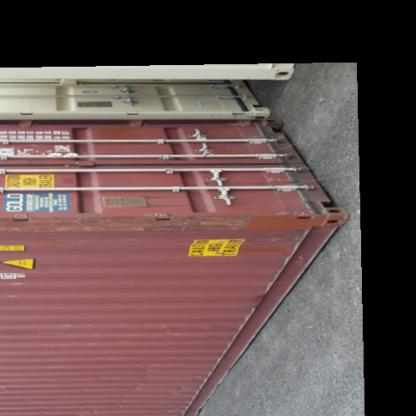Damage: (0, 201, 240, 241)
